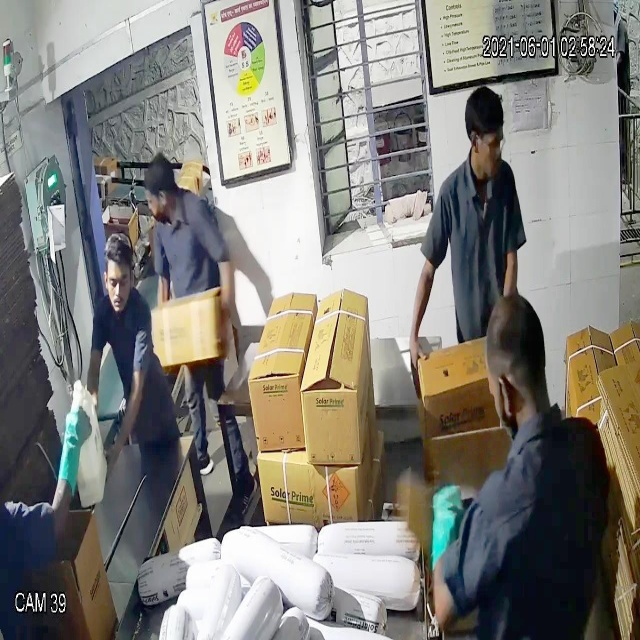Sin_gafas: (103, 260, 139, 297)
